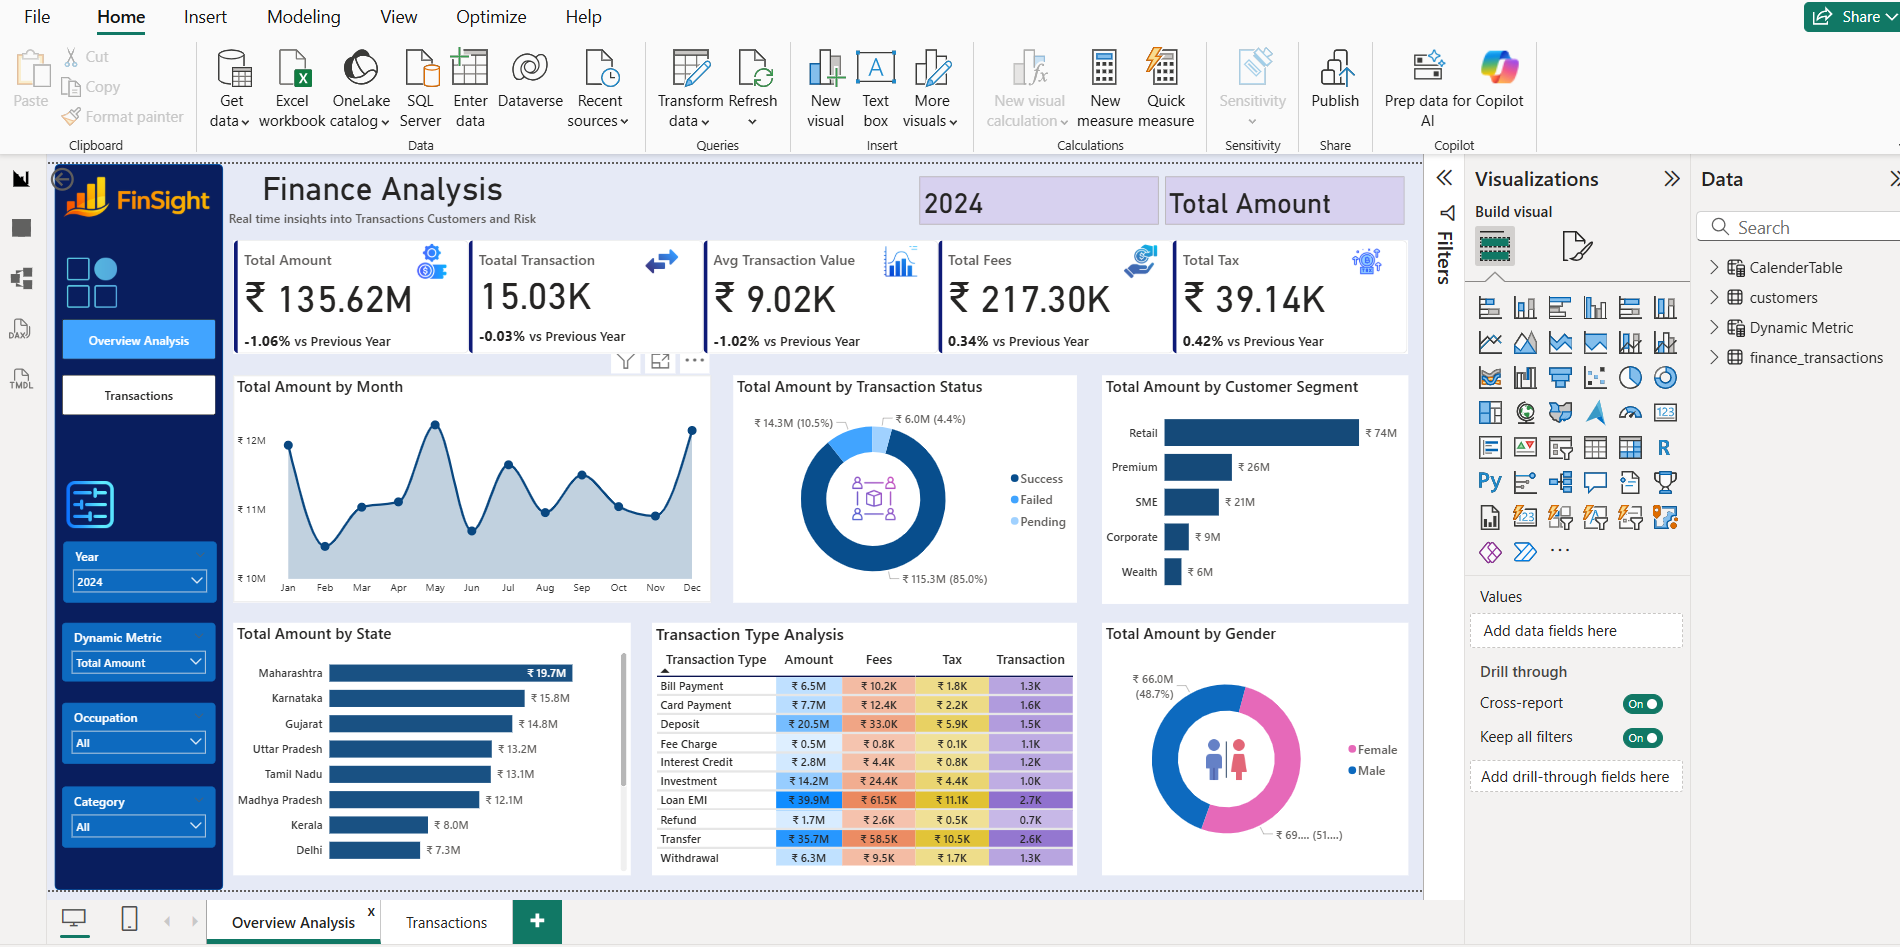

The page's visual inventory and layout, read from the dashboard file:
{"tool":"powerbi","page":{"name":"Overview Analysis","canvas":[1800,950],"ordinal":0},"visuals":[{"type":"shape","box":[9.8,0,220.7,950],"z":0},{"type":"image","box":[9.8,0,220.7,85],"z":1000},{"type":"card","fields":{"Values":["finance_transactions.Dashboard Title"]},"box":[230.6,0,417,98.1],"z":2000},{"type":"slicer","fields":{"Values":["CalenderTable.Year"]},"box":[21.3,493.8,201.1,80.1],"z":3000},{"type":"image","box":[791.4,147.2,13.1,55.6],"z":5000},{"type":"slicer","fields":{"Values":["Dynamic Mertc.Dynamic Mertc"]},"box":[19.6,600.1,201.1,76.9],"z":9000},{"type":"areaChart","fields":{"Y":["finance_transactions.Total Amount"],"Category":["CalenderTable.Month"]},"box":[243.6,276.3,624.6,297.6],"z":10000},{"type":"cardVisual","fields":{"Data":["finance_transactions.Selected Year","finance_transactions.Selected Dynamic Measure"]},"box":[1136.4,11.4,644.3,73.6],"z":11000},{"type":"donutChart","fields":{"Y":["finance_transactions.Total Amount"],"Category":["finance_transactions.transaction_status"]},"box":[897.7,276.3,449.7,297.6],"z":12000},{"type":"clusteredBarChart","fields":{"Y":["finance_transactions.Total Amount"],"Category":["customers.customer_segment"]},"box":[1380.1,276.3,400.6,299.2],"z":13000},{"type":"clusteredBarChart","fields":{"Y":["finance_transactions.Total Amount"],"Category":["customers.state"]},"box":[243.6,600.1,520,330.3],"z":14000},{"type":"tableEx","title":"Transaction Type Analysis","fields":{"Values":["finance_transactions.transaction_type","finance_transactions.Total Amount","finance_transactions.Total Fees","finance_transactions.Total Tax","finance_transactions.Toatal Transaction"]},"box":[791.4,600.1,556,330.3],"z":15000},{"type":"donutChart","fields":{"Y":["finance_transactions.Total Amount"],"Category":["customers.gender"]},"box":[1380.1,600.1,400.6,330.3],"z":16000},{"type":"image","box":[1507.6,744,70.3,70.3],"z":17000},{"type":"image","box":[1046.5,402.3,70.3,70.3],"z":18000},{"type":"slicer","fields":{"Values":["customers.occupation"]},"box":[19.6,704.8,201.1,80.1],"z":19000},{"type":"slicer","fields":{"Values":["finance_transactions.merchant_category"]},"box":[19.6,814.3,201.1,80.1],"z":20000},{"type":"actionButton","box":[0,0,100,40],"z":21000},{"type":"pageNavigator","box":[19.6,202.8,201.1,127.5],"z":22000},{"type":"cardVisual","fields":{"Data":["finance_transactions.Total Amount","finance_transactions.Toatal Transaction","finance_transactions.Avg Transaction Value","finance_transactions.Total Fees","finance_transactions.Total Tax"]},"box":[243.6,99.7,1537.1,148.8],"z":23000},{"type":"image","box":[1089,99.7,55.6,55.6],"z":23001},{"type":"image","box":[1403,99.7,55.6,55.6],"z":23002},{"type":"image","box":[475.8,99.7,55.6,55.6],"z":23004},{"type":"image","box":[1699,99.7,55.6,55.6],"z":23005},{"type":"image","box":[776.7,99.7,55.6,55.6],"z":23006},{"type":"image","box":[16.4,405.5,80.1,80.1],"z":23007},{"type":"image","box":[21.3,117.7,75.2,75.2],"z":23008}]}

Visuals, with their boxes on the page's 1800x950 design canvas (x1, y1, x2, y2). These are canvas units, not pixel positions in the 1900x947 screenshot, which may show the page scaled, cropped or inside an application window:
shape: {"x1": 10, "y1": 0, "x2": 230, "y2": 950}
image: {"x1": 10, "y1": 0, "x2": 230, "y2": 85}
card - finance_transactions.Dashboard Title: {"x1": 231, "y1": 0, "x2": 648, "y2": 98}
slicer - CalenderTable.Year: {"x1": 21, "y1": 494, "x2": 222, "y2": 574}
image: {"x1": 791, "y1": 147, "x2": 804, "y2": 203}
slicer - Dynamic Mertc.Dynamic Mertc: {"x1": 20, "y1": 600, "x2": 221, "y2": 677}
areaChart - finance_transactions.Total Amount x CalenderTable.Month: {"x1": 244, "y1": 276, "x2": 868, "y2": 574}
cardVisual - finance_transactions.Selected Year x finance_transactions.Selected Dynamic Measure: {"x1": 1136, "y1": 11, "x2": 1781, "y2": 85}
donutChart - finance_transactions.Total Amount x finance_transactions.transaction_status: {"x1": 898, "y1": 276, "x2": 1347, "y2": 574}
clusteredBarChart - finance_transactions.Total Amount x customers.customer_segment: {"x1": 1380, "y1": 276, "x2": 1781, "y2": 576}
clusteredBarChart - finance_transactions.Total Amount x customers.state: {"x1": 244, "y1": 600, "x2": 764, "y2": 930}
"Transaction Type Analysis" tableEx: {"x1": 791, "y1": 600, "x2": 1347, "y2": 930}
donutChart - finance_transactions.Total Amount x customers.gender: {"x1": 1380, "y1": 600, "x2": 1781, "y2": 930}
image: {"x1": 1508, "y1": 744, "x2": 1578, "y2": 814}
image: {"x1": 1046, "y1": 402, "x2": 1117, "y2": 473}
slicer - customers.occupation: {"x1": 20, "y1": 705, "x2": 221, "y2": 785}
slicer - finance_transactions.merchant_category: {"x1": 20, "y1": 814, "x2": 221, "y2": 894}
actionButton: {"x1": 0, "y1": 0, "x2": 100, "y2": 40}
pageNavigator: {"x1": 20, "y1": 203, "x2": 221, "y2": 330}
cardVisual - finance_transactions.Total Amount x finance_transactions.Toatal Transaction: {"x1": 244, "y1": 100, "x2": 1781, "y2": 248}
image: {"x1": 1089, "y1": 100, "x2": 1145, "y2": 155}
image: {"x1": 1403, "y1": 100, "x2": 1459, "y2": 155}
image: {"x1": 476, "y1": 100, "x2": 531, "y2": 155}
image: {"x1": 1699, "y1": 100, "x2": 1755, "y2": 155}
image: {"x1": 777, "y1": 100, "x2": 832, "y2": 155}
image: {"x1": 16, "y1": 406, "x2": 96, "y2": 486}
image: {"x1": 21, "y1": 118, "x2": 96, "y2": 193}
